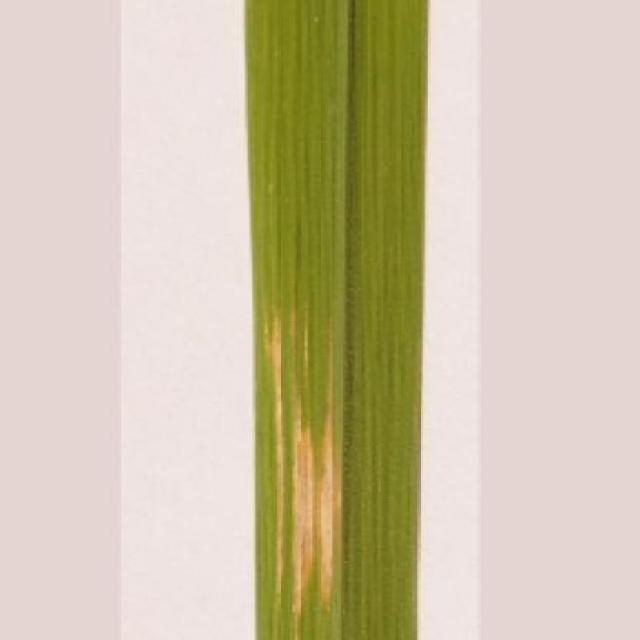Brown_Spot: (241, 0, 428, 640)
